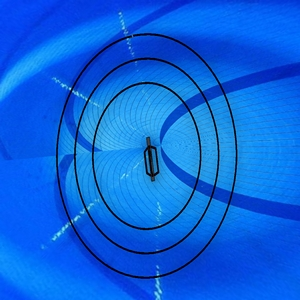circle: (52, 29, 243, 281)
submarine: (135, 133, 167, 186)
